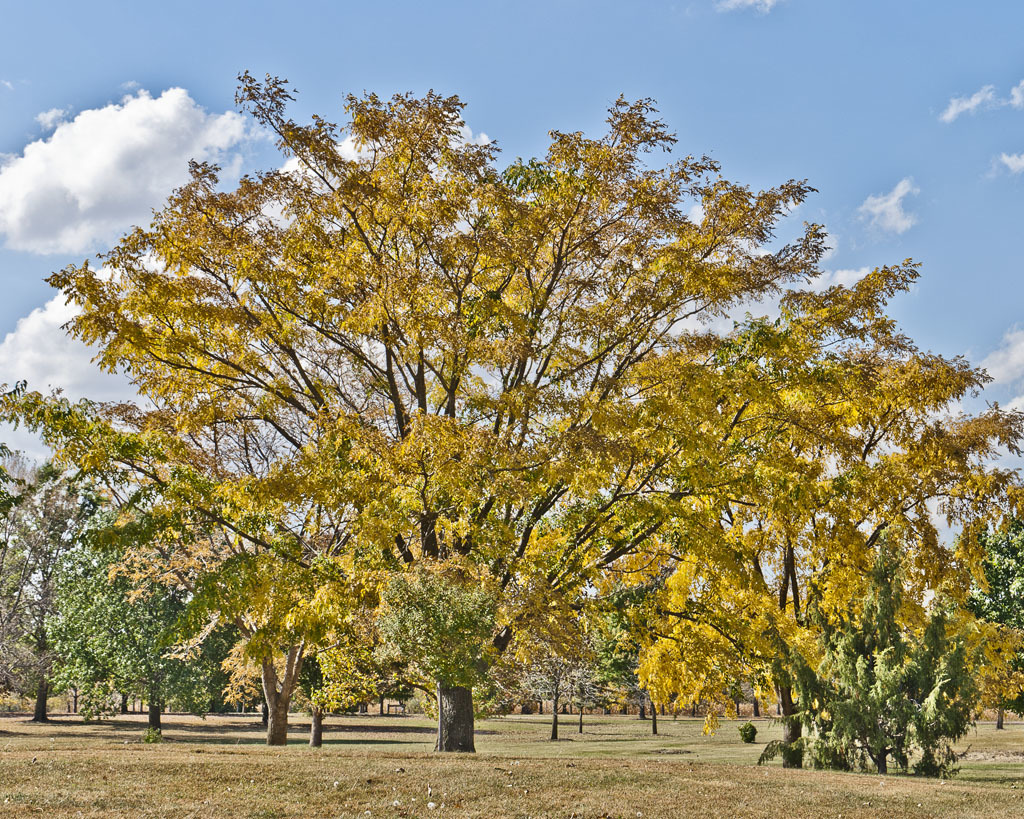Tree: (0, 71, 1022, 775)
